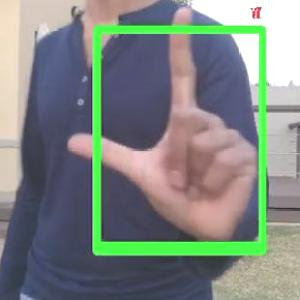land_hand: (57, 0, 269, 251)
